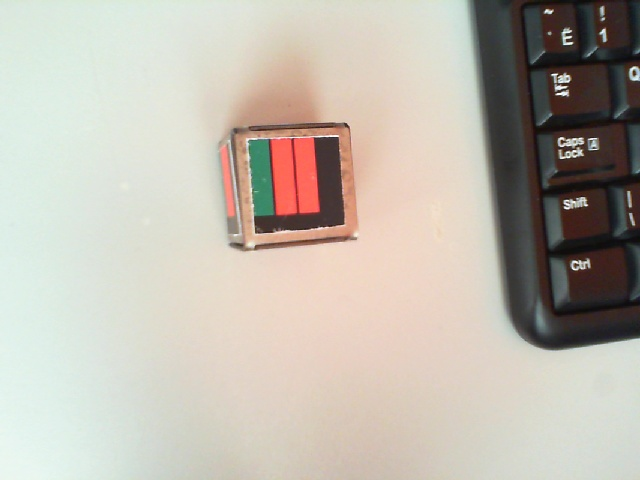square: (250, 139, 344, 230)
